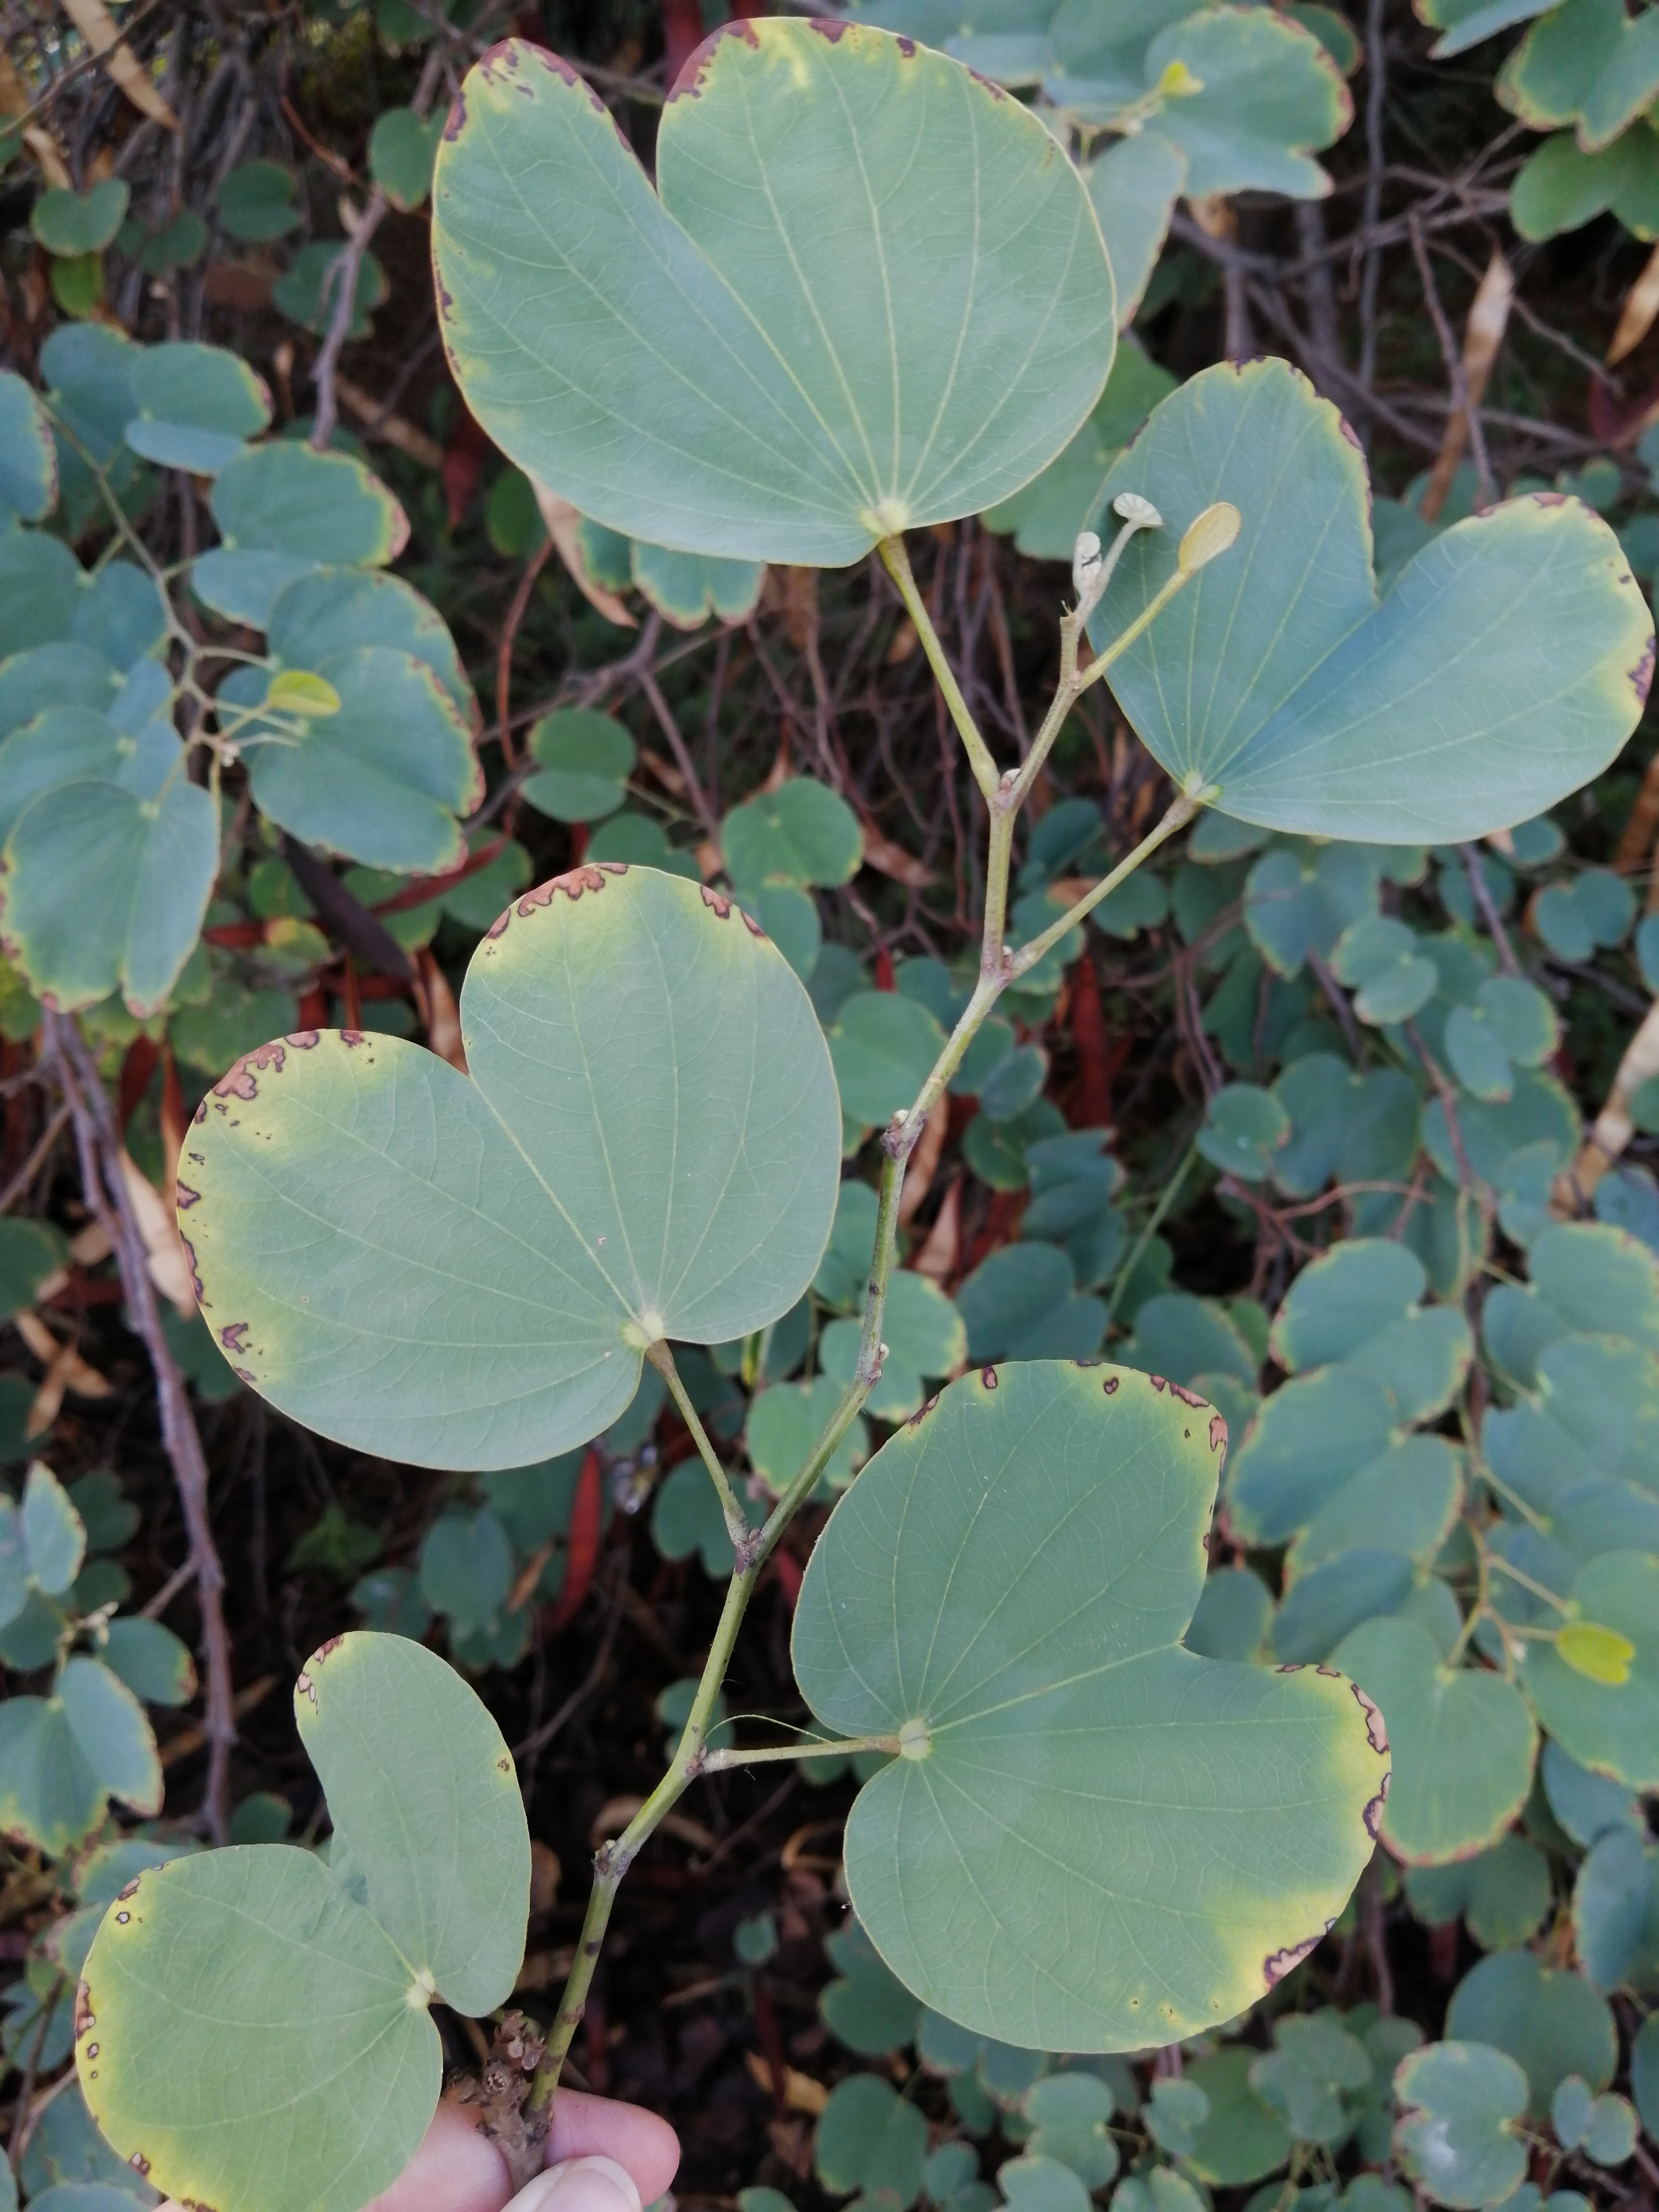nothealthy: (160, 817, 850, 1479), (767, 1341, 1403, 2055), (406, 23, 1129, 589), (1101, 322, 1657, 880), (87, 1580, 521, 2188)
